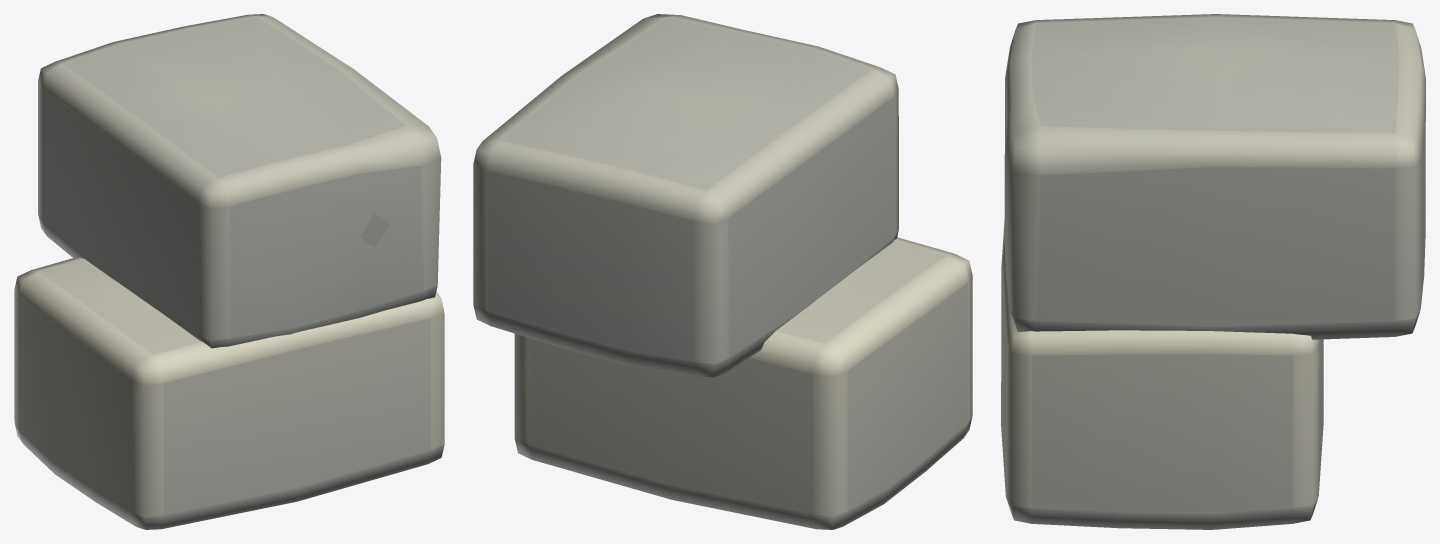
File: block_corner_stone1_LOD_setup.fbx
3 renders of one model, left to right at view 1: azimuth 30°, elevation 25°; view 2: azimuth 150°, elevation 25°; view 3: azimuth 270°, elevation 25°, orthographic. The views are drawn at different scales.
Parts seen in each view (by area): view 1: block_corner_stone1_LOD0; view 2: block_corner_stone1_LOD0; view 3: block_corner_stone1_LOD0.
Boxes of the visible parts, bbox=[...] form: block_corner_stone1_LOD0: bbox=[14, 14, 444, 529]; block_corner_stone1_LOD0: bbox=[473, 14, 972, 529]; block_corner_stone1_LOD0: bbox=[1001, 14, 1425, 529].
Size of what is drawn, in the model's own units: 107 by 112 by 108.
